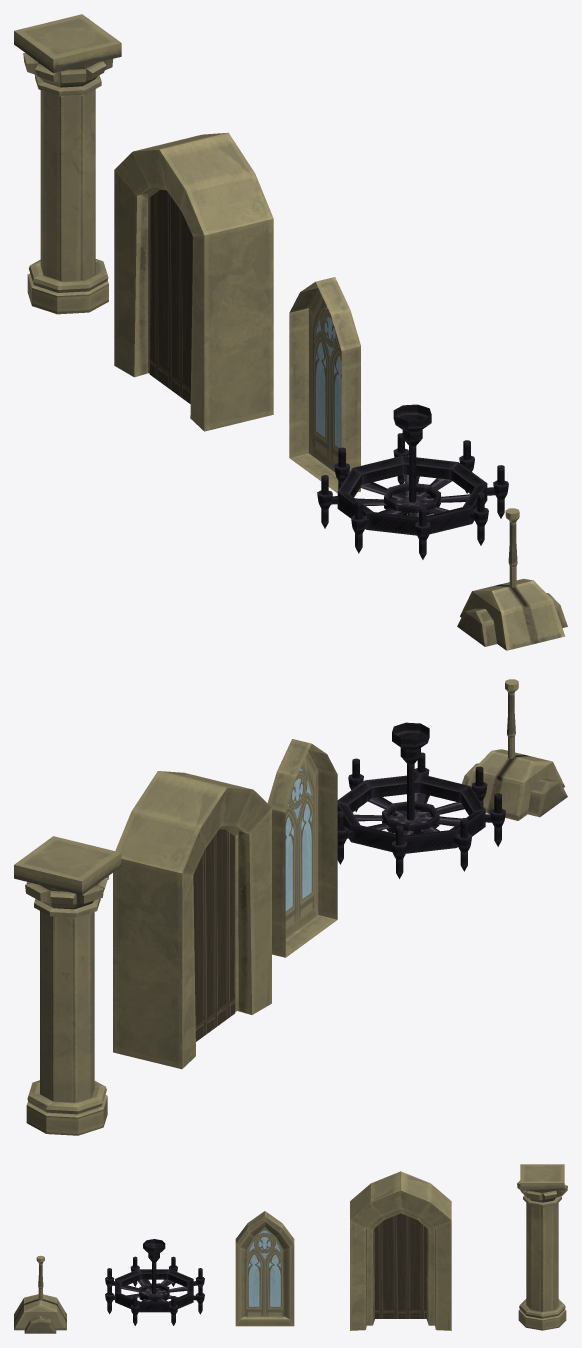
The model's file is CastleModels1.fbx.
3 renders of one model, top to bottom at view 1: azimuth 30°, elevation 25°; view 2: azimuth 150°, elevation 25°; view 3: azimuth 270°, elevation 25°, orthographic. The views are drawn at different scales.
Visible parts, largest first — view 1: Portao, Coluna, Janela, Candeladro, Porta, BaseDaAlavanca; view 2: Portao, Coluna, Janela, Candeladro, Porta, BaseDaAlavanca, Alavanca; view 3: Portao, Janela, Coluna, Porta, Candeladro, BaseDaAlavanca, Alavanca.
Part boxes in pixels (bbox=[...]): Portao: bbox=[114, 132, 273, 431]; Coluna: bbox=[14, 14, 121, 314]; Janela: bbox=[289, 277, 360, 492]; Candeladro: bbox=[317, 404, 508, 559]; Porta: bbox=[149, 189, 193, 403]; BaseDaAlavanca: bbox=[457, 578, 567, 650]; Portao: bbox=[113, 771, 271, 1069]; Coluna: bbox=[14, 836, 121, 1135]; Janela: bbox=[267, 739, 337, 957]; Candeladro: bbox=[337, 722, 505, 878]; Porta: bbox=[193, 828, 235, 1041]; BaseDaAlavanca: bbox=[462, 749, 567, 820]; Alavanca: bbox=[505, 679, 518, 758]; Portao: bbox=[350, 1171, 451, 1330]; Janela: bbox=[235, 1211, 294, 1326]; Coluna: bbox=[517, 1164, 567, 1330]; Porta: bbox=[375, 1213, 426, 1318]; Candeladro: bbox=[105, 1239, 204, 1325]; BaseDaAlavanca: bbox=[14, 1294, 66, 1333]; Alavanca: bbox=[36, 1255, 44, 1300].
Bounding box in the file's own units: 995 × 1603 × 5410.
